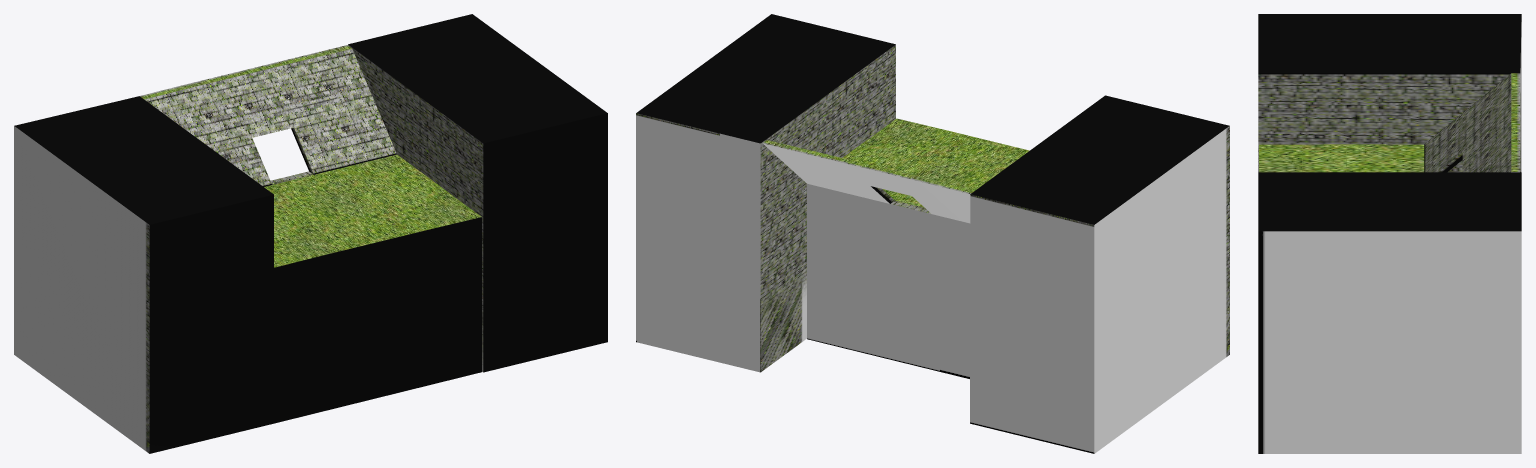
Rendered from boss.glb.
The picture shows the model from 3 angles, left to right: view 1: azimuth 30°, elevation 25°; view 2: azimuth 150°, elevation 25°; view 3: azimuth 270°, elevation 25°; orthographic projection. The views are drawn at different scales.
Visible parts, largest first — view 1: Cube.001; view 2: Cube.001; view 3: Cube.001.
Part boxes in pixels (<box>): Cube.001: <box>14,14,607,453</box>; Cube.001: <box>636,14,1229,453</box>; Cube.001: <box>1258,14,1521,453</box>.
Bounding box in the file's own units: 29.51 × 14.1 × 15.11.
Materials: 1 (1 with a texture image).
